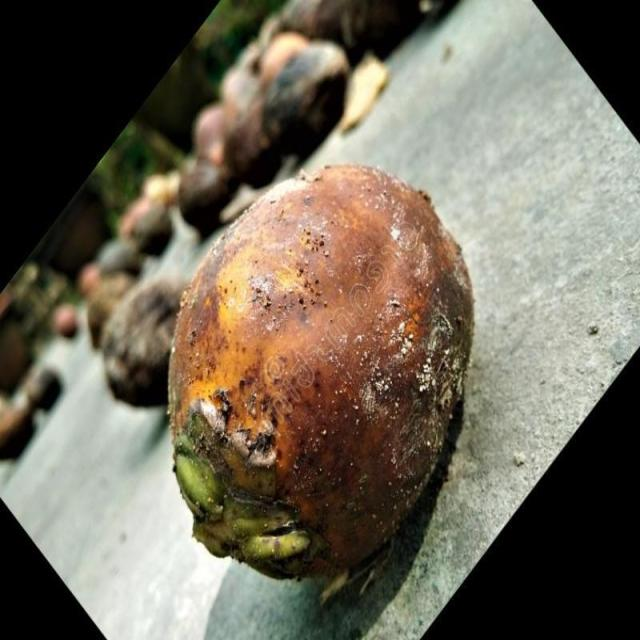damaged: (168, 167, 473, 583)
